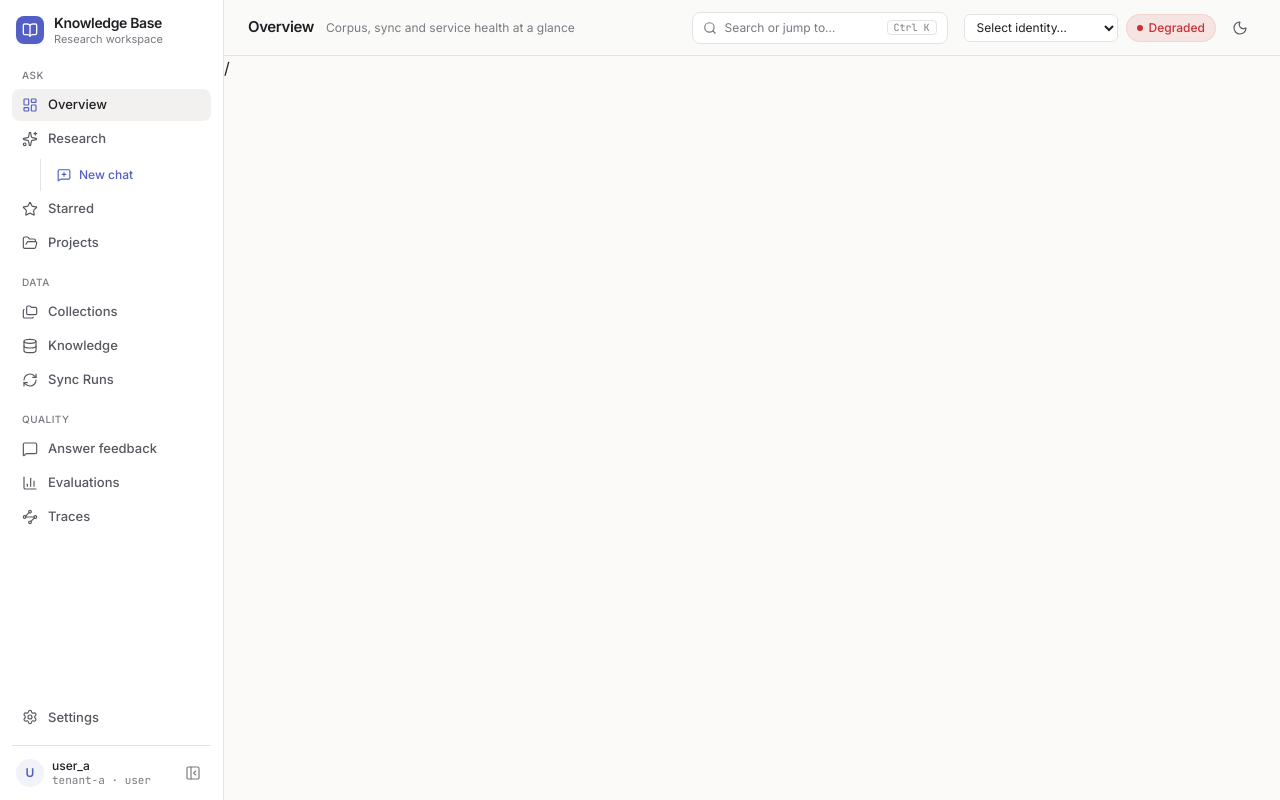
Test case: console shell › opens a command palette with Cmd+K that filters and navigates
Step 1. Press k
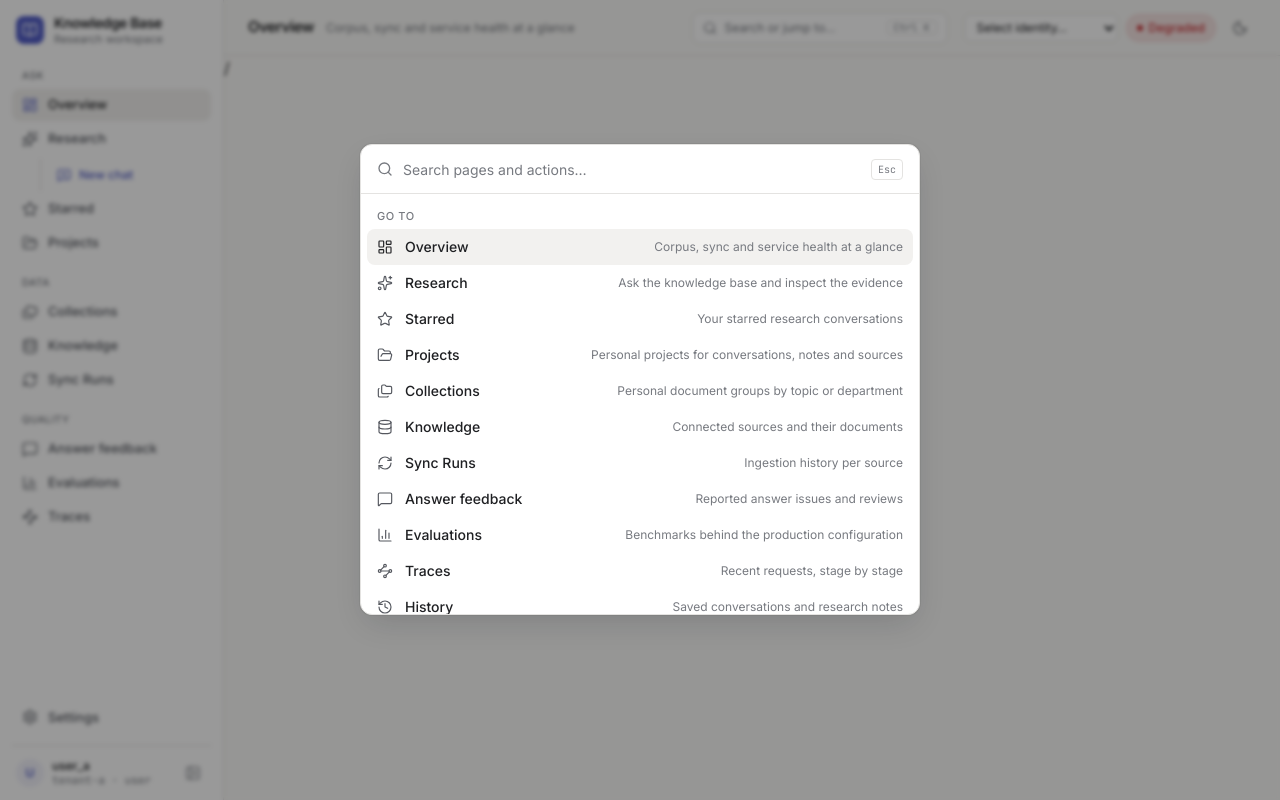
Step 2. Type "trac" into the dropdown named "Search commands" → (632, 169), box x1=403 y1=145 x2=861 y2=193
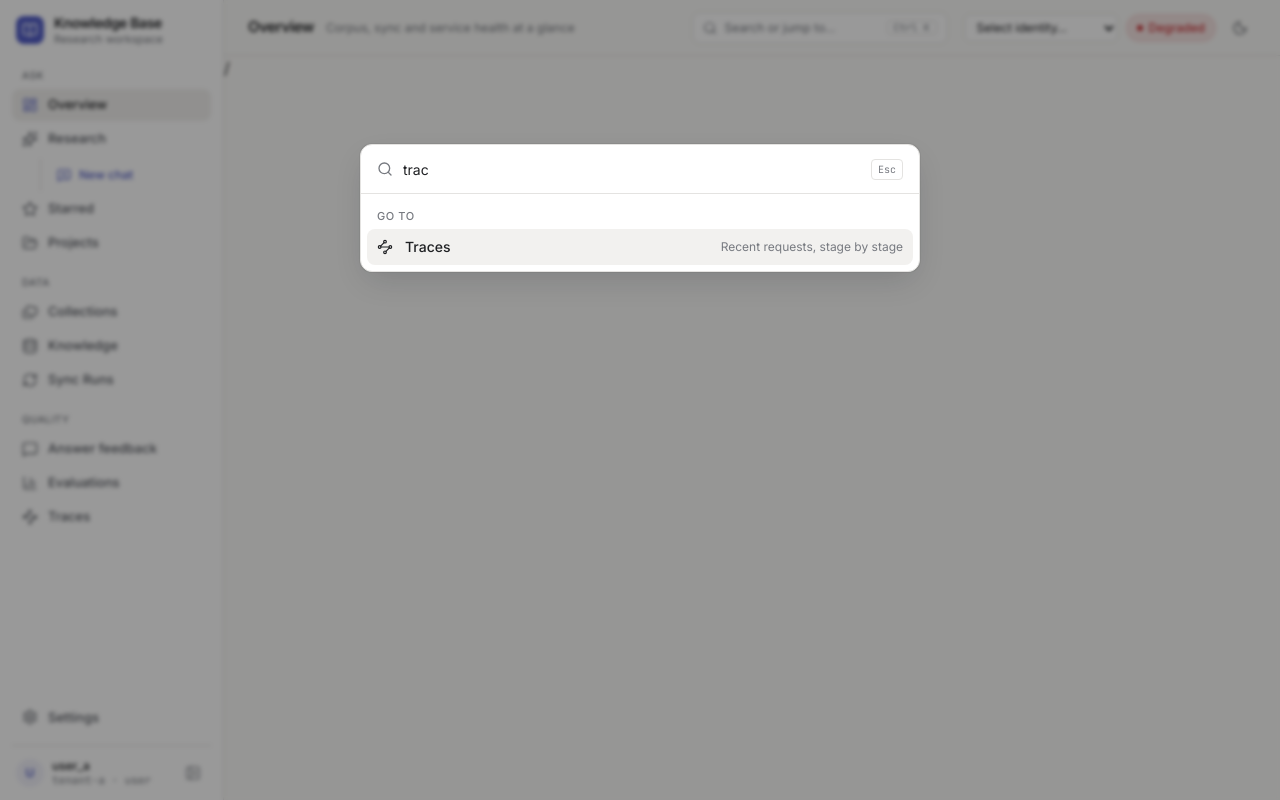
Step 3. Press Enter in the dropdown named "Search commands", box x1=403 y1=145 x2=861 y2=193
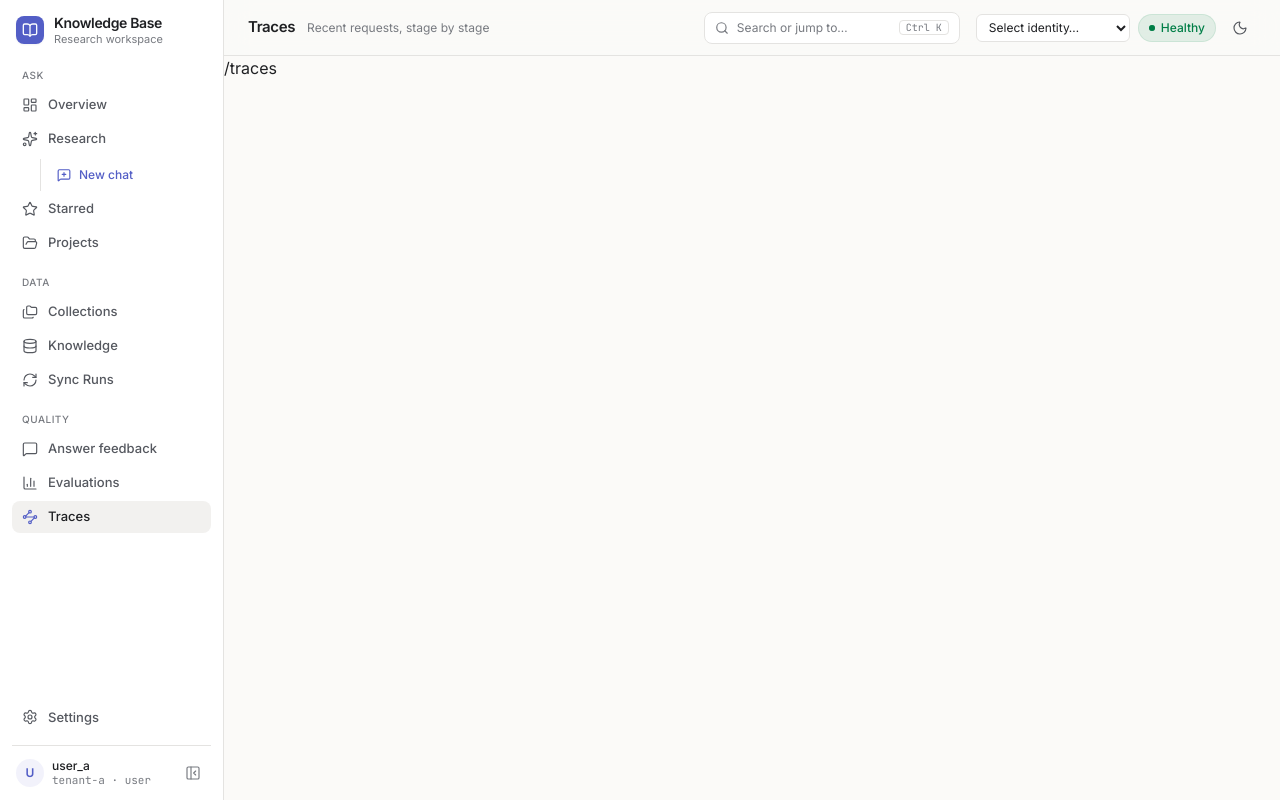
Expected: the dialog "Command palette" is not shown
Expected: the text with test id "where" reads "/traces", x1=224 y1=58 x2=277 y2=78
